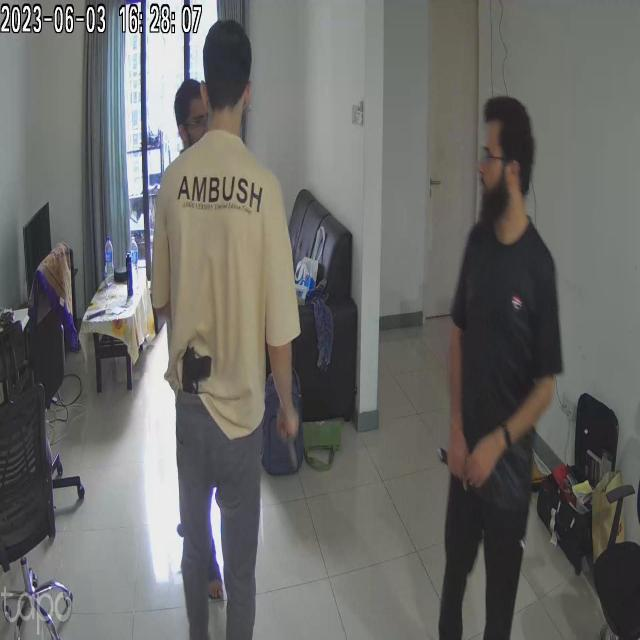Gun: (164, 331, 223, 402)
